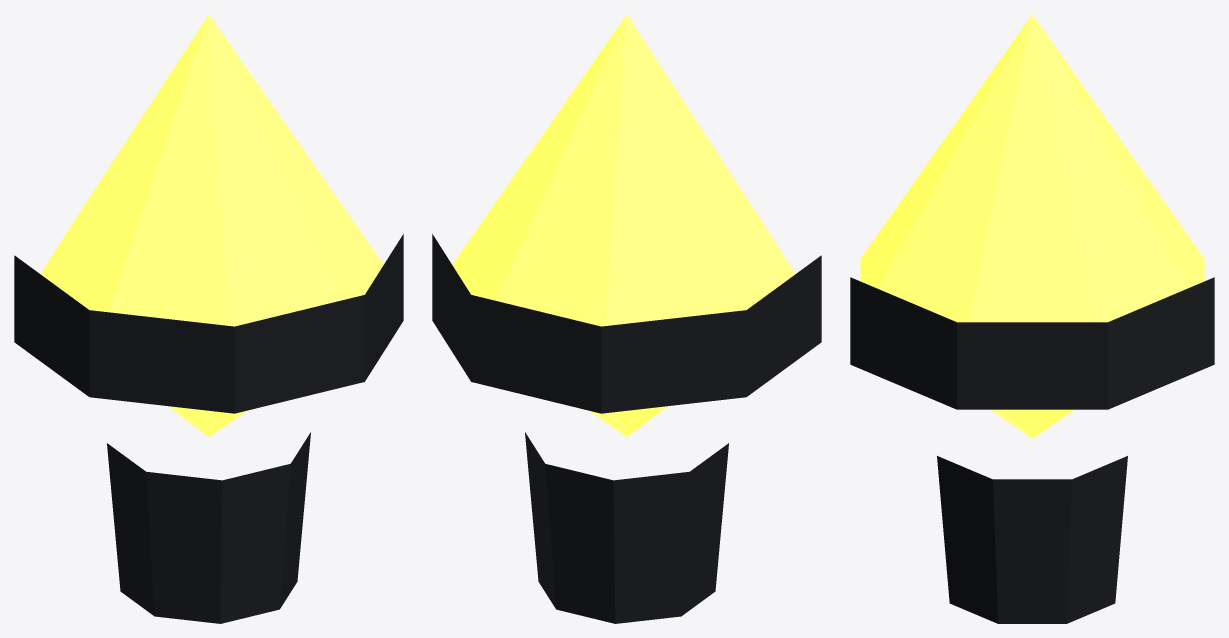
The model's file is daemon_EXTRACT_SHARD.glb.
3 renders of one model, left to right at view 1: azimuth 30°, elevation 25°; view 2: azimuth 150°, elevation 25°; view 3: azimuth 270°, elevation 25°, orthographic.
Parts seen in each view (by area): view 1: Mesh; view 2: Mesh; view 3: Mesh.
Part boxes in pixels (x1,y1,x2,y2): Mesh: (14, 14, 403, 623); Mesh: (432, 14, 821, 623); Mesh: (850, 14, 1214, 623).
Size of the model in its own units: 0.0264 by 0.046 by 0.0264.
